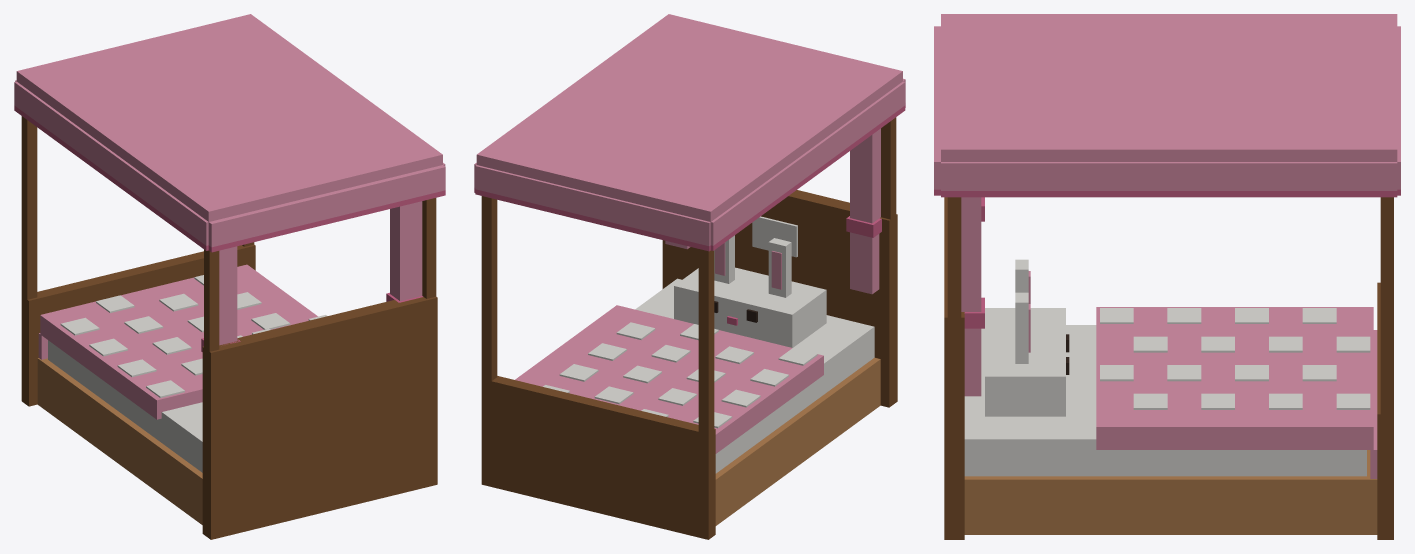
Rendered from ncb-bed-pink.glb.
3 renders of one model, left to right at view 1: azimuth 30°, elevation 25°; view 2: azimuth 150°, elevation 25°; view 3: azimuth 270°, elevation 25°, orthographic. The views are drawn at different scales.
Visible parts, largest first — view 1: box-prop; view 2: box-prop; view 3: box-prop.
Boxes of the visible parts, box(x1,y1,x2,y2) form: box-prop: box(14, 14, 445, 539); box-prop: box(474, 14, 905, 539); box-prop: box(934, 14, 1400, 539).
Bounding box in the file's own units: 1.94 × 2.56 × 2.76.
